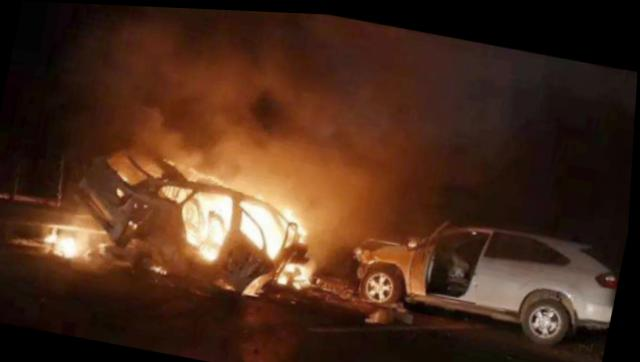fire: (39, 137, 334, 301)
